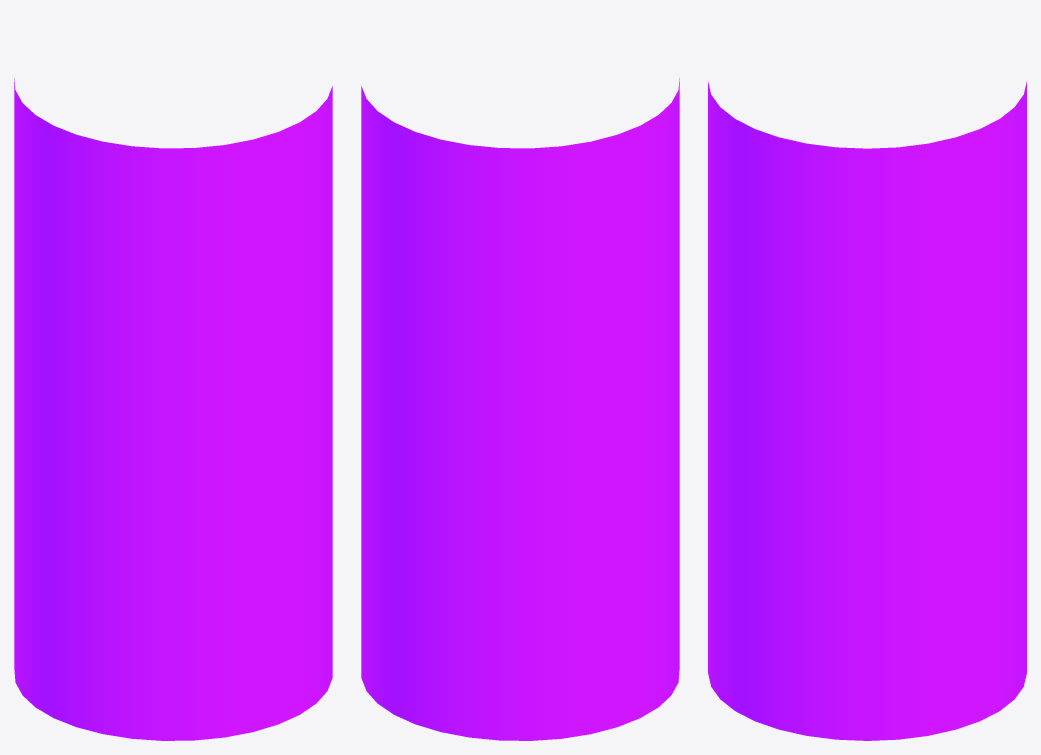
Rendered from BEAM.glb.
3 renders of one model, left to right at view 1: azimuth 30°, elevation 25°; view 2: azimuth 150°, elevation 25°; view 3: azimuth 270°, elevation 25°, orthographic.
Parts seen in each view (by area): view 1: Cylinder; view 2: Cylinder; view 3: Cylinder.
Part boxes in pixels (x1=…): Cylinder: x1=14, y1=78, x2=332, y2=740; Cylinder: x1=361, y1=78, x2=679, y2=740; Cylinder: x1=708, y1=81, x2=1026, y2=740.
Bounding box in the file's own units: 10.42 × 21.36 × 10.42.
